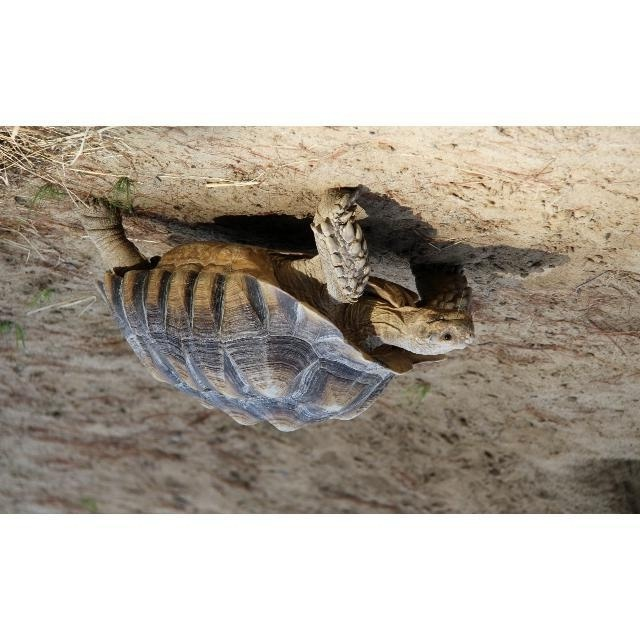turtle: (72, 187, 476, 433)
